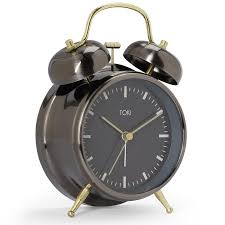alarm_clock: (34, 2, 188, 219), (41, 2, 188, 219)
